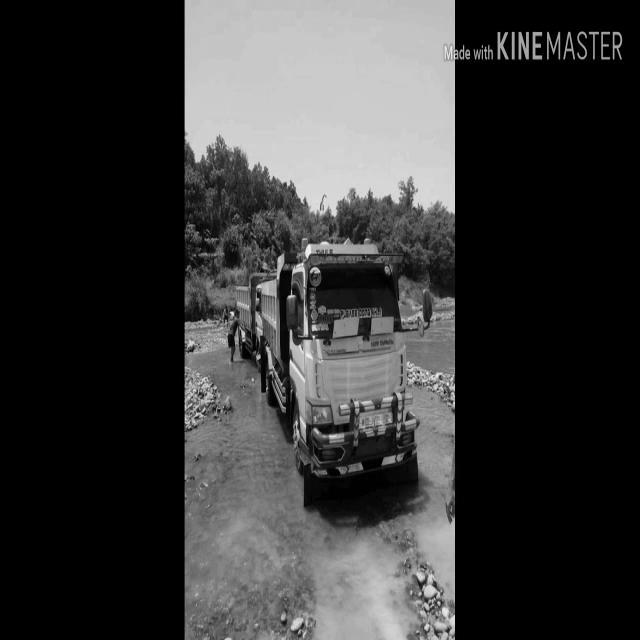truck: (263, 240, 436, 510)
